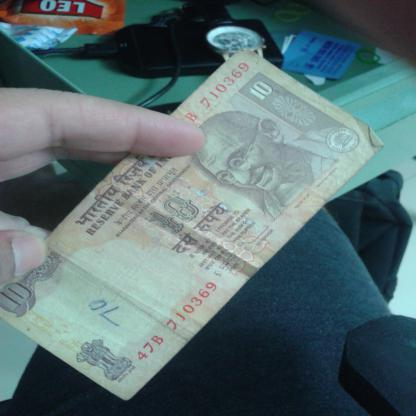Old10Front: (0, 49, 384, 402)
